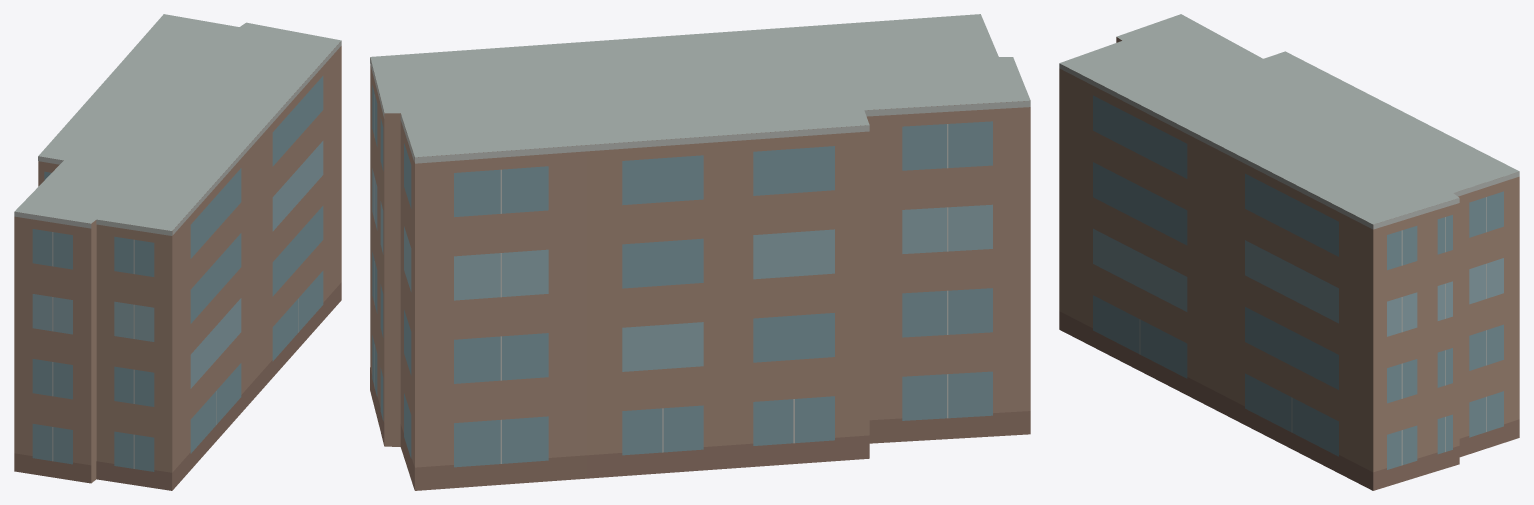
The model's file is survey-upis-32975398.glb.
3 renders of one model, left to right at view 1: azimuth 30°, elevation 25°; view 2: azimuth 150°, elevation 25°; view 3: azimuth 270°, elevation 25°, orthographic. The views are drawn at different scales.
Visible parts, largest first — view 1: survey-upis-32975398.tmp; view 2: survey-upis-32975398.tmp; view 3: survey-upis-32975398.tmp.
Boxes of the visible parts, x1,y1,x2,y2 form: survey-upis-32975398.tmp: (14, 14, 341, 490); survey-upis-32975398.tmp: (370, 14, 1030, 490); survey-upis-32975398.tmp: (1059, 14, 1519, 490).
Bounding box in the file's own units: 21.71 × 12.8 × 20.06.
